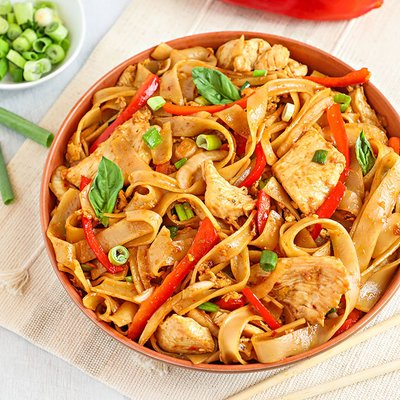sushi: (0, 0, 89, 121)
